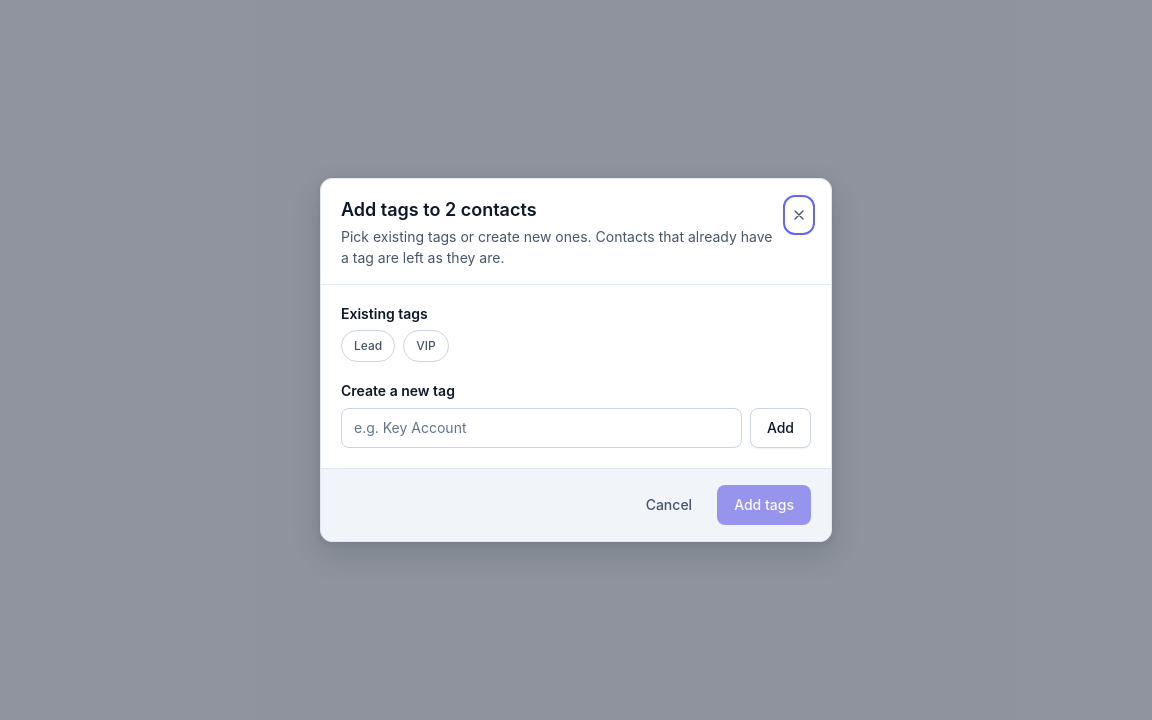
BulkTagModal › validates the new tag name
In the field named "New tag name": (541, 428) [341,408,742,448], type "<oops>"
Then press Enter
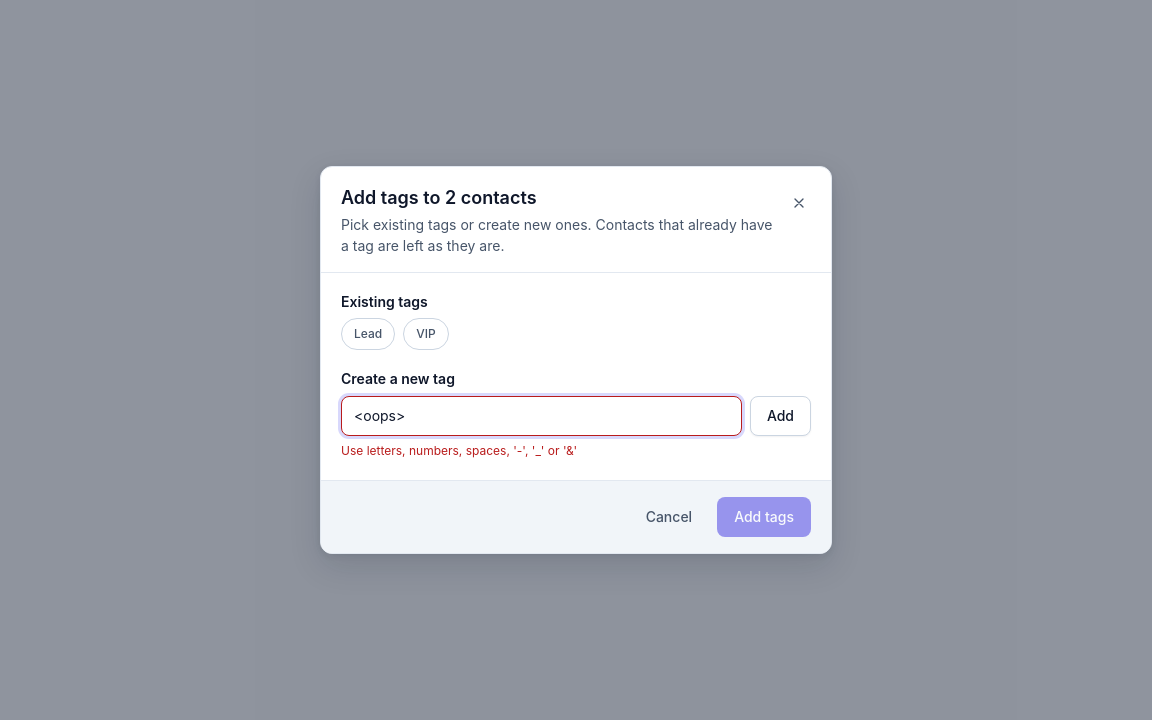
Check: the text "Use letters, numbers, spaces, '-', '_' or '&'" is shown, box [341,443,577,458]
